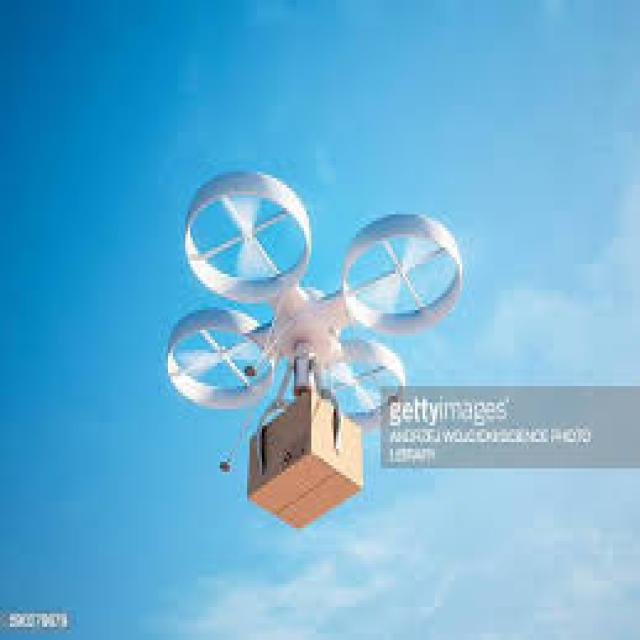drone: (143, 160, 470, 438)
